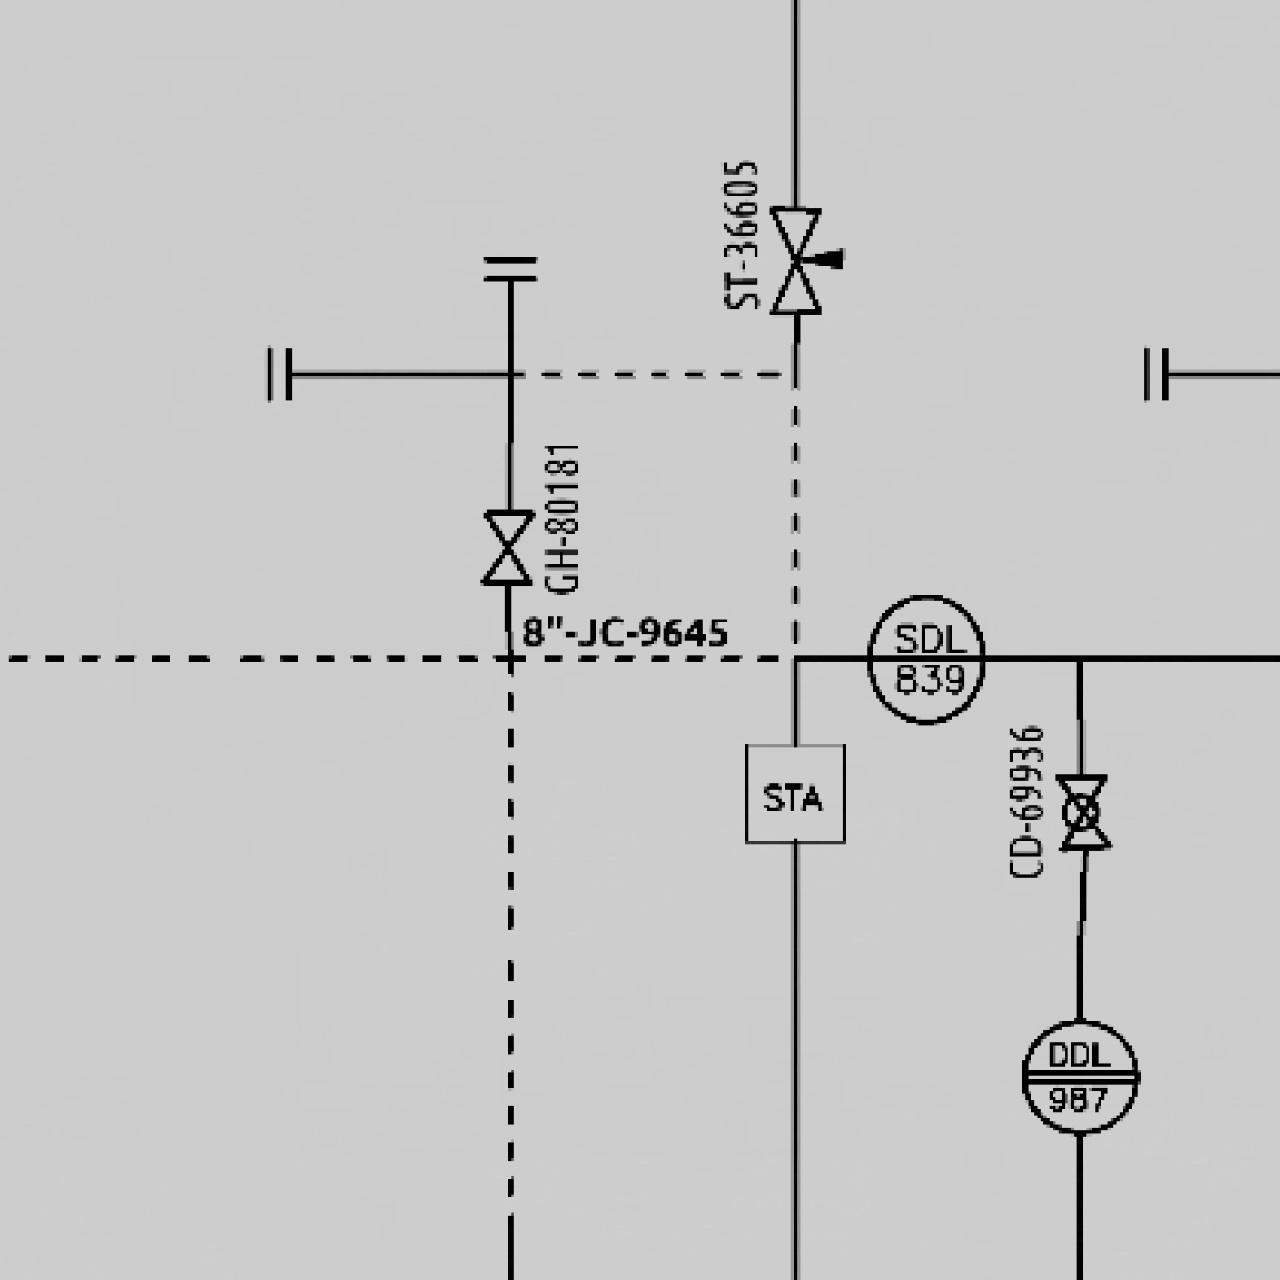Control-Panel: (1017, 1012, 1142, 1141)
